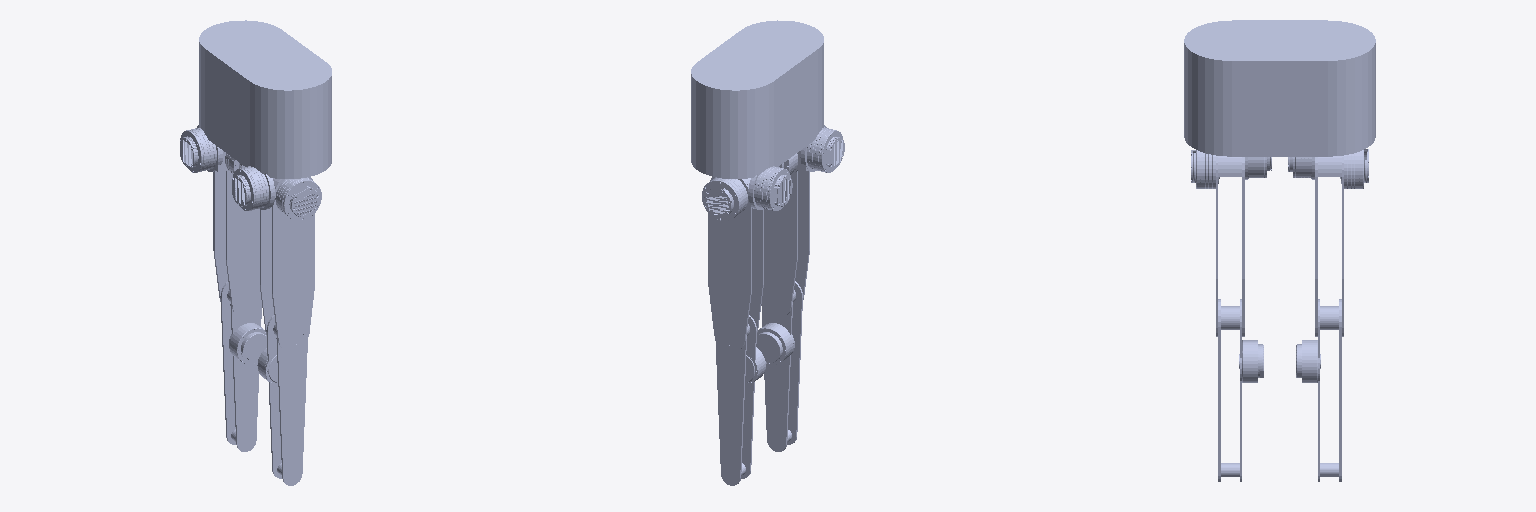
The robot description file, URDF, robot "hr":
<?xml version="1.0" encoding="utf-8"?>
<!-- This URDF was automatically created by SolidWorks to URDF Exporter! Originally created by [author] ([email redacted]) 
     Commit Version: 1.6.0-4-g7f85cfe  Build Version: 1.6.7995.38578
     For more information, please see http://wiki.ros.org/sw_urdf_exporter -->
<robot
  name="hr">
  <link
    name="base">
    <inertial>
      <origin
        xyz="-0.0044317 0.00063769 0.078449"
        rpy="0 0 0" />
      <mass
        value="13" />
      <inertia
        ixx="0.21138"
        ixy="2.665E-05"
        ixz="0.00060204"
        iyy="0.097207"
        iyz="-0.00098535"
        izz="0.20454" />
    </inertial>
    <visual>
      <origin
        xyz="0 0 0"
        rpy="0 0 0" />
      <geometry>
        <mesh
          filename="meshes/base.STL" />
      </geometry>
      <material
        name="">
        <color
          rgba="0.79216 0.81961 0.93333 1" />
      </material>
    </visual>
    <collision>
      <origin
        xyz="0 0 0.125"
        rpy="0 0 0" />
          <geometry>
              <box size="0.2 0.38 0.21"/>
          </geometry>
    </collision>
  </link>
  <link
    name="L_hip">
    <inertial>
      <origin
        xyz="-0.076147 -0.000144 -0.056058"
        rpy="0 0 0" />
      <mass
        value="1.5262" />
      <inertia
        ixx="0.004624"
        ixy="-1.063E-05"
        ixz="-0.0016518"
        iyy="0.0052931"
        iyz="-6.3E-06"
        izz="0.0033533" />
    </inertial>
    <visual>
      <origin
        xyz="0 0 0"
        rpy="0 0 0" />
      <geometry>
        <mesh
          filename="meshes/L_hip.STL" />
      </geometry>
      <material
        name="">
        <color
          rgba="0.79216 0.81961 0.93333 1" />
      </material>
    </visual>
    <!-- <collision>
      <origin
        xyz="0 0 0"
        rpy="0 0 0" />
      <geometry>
        <mesh
          filename="meshes/L_hip.STL" />
      </geometry>
    </collision> -->
  </link>
  <joint
    name="L_hip_joint"
    type="revolute">
    <origin
      xyz="-0.0053471 0.1175 -0.0067"
      rpy="0 0 0" />
    <parent
      link="base" />
    <child
      link="L_hip" />
    <axis
      xyz="0 0 1" />
    <limit
      lower="-1.5"
      upper="1.5"
      effort="300"
      velocity="50" />
  </joint>
  <link
    name="L_hip2">
    <inertial>
      <origin
        xyz="0.065812 -0.057927 -0.015122"
        rpy="0 0 0" />
      <mass
        value="1.33325" />
      <inertia
        ixx="0.00218586"
        ixy="0.00063143"
        ixz="0.00025969"
        iyy="0.00331254"
        iyz="-0.0001735"
        izz="0.00291067" />
    </inertial>
    <visual>
      <origin
        xyz="0 0 0"
        rpy="0 0 0" />
      <geometry>
        <mesh
          filename="meshes/L_hip2.STL" />
      </geometry>
      <material
        name="">
        <color
          rgba="0.79216 0.81961 0.93333 1" />
      </material>
    </visual>
    <!-- <collision>
      <origin
        xyz="0 0 0"
        rpy="0 0 0" />
      <geometry>
        <mesh
          filename="meshes/L_hip2.STL" />
      </geometry>
    </collision> -->
  </link>
  <joint
    name="L_hip2_joint"
    type="revolute">
    <origin
      xyz="-0.0763 0 -0.084"
      rpy="0 0 0" />
    <parent
      link="L_hip" />
    <child
      link="L_hip2" />
    <axis
      xyz="1 0 0" />
    <limit
      lower="-0.5"
      upper="0.65"
      effort="300"
      velocity="50" />
  </joint>
  <link
    name="L_thigh">
    <inertial>
      <origin
        xyz="-2.011E-05 0.019927 -0.086535"
        rpy="0 0 0" />
      <mass
        value="4.91" />
      <inertia
        ixx="0.078865"
        ixy="-3.8E-07"
        ixz="8.53E-06"
        iyy="0.079352"
        iyz="-0.0022097"
        izz="0.0098034" />
    </inertial>
    <visual>
      <origin
        xyz="0 0 0"
        rpy="0 0 0" />
      <geometry>
        <mesh
          filename="meshes/L_thigh.STL" />
      </geometry>
      <material
        name="">
        <color
          rgba="0.79216 0.81961 0.93333 1" />
      </material>
    </visual>
    <!-- <collision>
      <origin
        xyz="0 0 0"
        rpy="0 0 0" />
      <geometry>
        <mesh
          filename="meshes/L_thigh.STL" />
      </geometry>
    </collision> -->
  </link>
  <joint
    name="L_thigh_joint"
    type="revolute">
    <origin
      xyz="0.078 -0.014084 -0.0185"
      rpy="0 0 0" />
    <parent
      link="L_hip2" />
    <child
      link="L_thigh" />
    <axis
      xyz="0 1 0" />
    <limit
      lower="-2.05"
      upper="0"
      effort="300"
      velocity="50" />
  </joint>
  <link
    name="L_calf">
    <inertial>
      <origin
        xyz="7.1556E-05 0.01631 -0.076065"
        rpy="0 0 0" />
      <mass
        value="1.5" />
      <inertia
        ixx="0.014852"
        ixy="-9E-08"
        ixz="-5.83E-06"
        iyy="0.01532"
        iyz="-5.33E-06"
        izz="0.001003" />
    </inertial>
    <visual>
      <origin
        xyz="0 0 0"
        rpy="0 0 0" />
      <geometry>
        <mesh
          filename="meshes/L_calf.STL" />
      </geometry>
      <material
        name="">
        <color
          rgba="0.79216 0.81961 0.93333 1" />
      </material>
    </visual>
    <!-- <collision>
      <origin
        xyz="0 0 0"
        rpy="0 0 0" />
      <geometry>
        <mesh
          filename="meshes/L_calf.STL" />
      </geometry>
    </collision> -->
  </link>
  <joint
    name="L_calf_joint"
    type="revolute">
    <origin
      xyz="0 0 -0.35"
      rpy="0 0 0" />
    <parent
      link="L_thigh" />
    <child
      link="L_calf" />
    <axis
      xyz="0 1 0" />
    <limit
      lower="0"
      upper="2.1"
      effort="300"
      velocity="50" />
  </joint>
  <link
    name="L_toe">
    <inertial>
      <origin
        xyz="0.01468 0.015514 -0.035597"
        rpy="0 0 0" />
      <mass
        value="0.52014" />
      <inertia
        ixx="0.00014231"
        ixy="5.2E-07"
        ixz="2.557E-05"
        iyy="0.0016205"
        iyz="-5E-08"
        izz="0.0016853" />
    </inertial>
    <visual>
      <origin
        xyz="0 0 0"
        rpy="0 0 0" />
      <geometry>
        <mesh
          filename="meshes/L_toe.STL" />
      </geometry>
      <material
        name="">
        <color
          rgba="0.79216 0.81961 0.93333 1" />
      </material>
    </visual>
    <collision>
      <origin
        xyz="0 0 0"
        rpy="0 0 0" />
      <geometry>
        <mesh
          filename="meshes/L_toe.STL" />
      </geometry>
    </collision>
  </link>
  <joint
    name="L_toe_joint"
    type="revolute">
    <origin
      xyz="0 0 -0.35"
      rpy="0 0 0" />
    <parent
      link="L_calf" />
    <child
      link="L_toe" />
    <axis
      xyz="0 1 0" />
    <limit
      lower="-0.8"
      upper="0.8"
      effort="100"
      velocity="50" />
  </joint>
  <link name="L_end_effector">
    <visual>
      <origin xyz="0 0 0" rpy="0 0 0" />
      <geometry>
        <sphere radius="0.0001" />
      </geometry>
      <material name=""> 
        <color rgba="0 0 0 0" />
      </material>
    </visual>
  </link>
  <joint name="L_end_joint"
    type="fixed">
    <origin
      xyz="0 0 -0.049"
      rpy="0 0 0" />
    <parent
      link="L_toe" />
    <child
      link="L_end_effector" />
    <axis
      xyz="0 0 0" />
    <limit
      lower="0"
      upper="0"
      effort="0"
      velocity="0" />
  </joint>
  <link
    name="R_hip">
    <inertial>
      <origin
        xyz="-0.076147 -0.000144 -0.056058"
        rpy="0 0 0" />
      <mass
        value="1.5262" />
      <inertia
        ixx="0.004624"
        ixy="-1.063E-05"
        ixz="-0.0016518"
        iyy="0.0052931"
        iyz="-6.3E-06"
        izz="0.0033533" />
    </inertial>
    <visual>
      <origin
        xyz="0 0 0"
        rpy="0 0 0" />
      <geometry>
        <mesh
          filename="meshes/R_hip.STL" />
      </geometry>
      <material
        name="">
        <color
          rgba="0.79216 0.81961 0.93333 1" />
      </material>
    </visual>
    <!-- <collision>
      <origin
        xyz="0 0 0"
        rpy="0 0 0" />
      <geometry>
        <mesh
          filename="meshes/R_hip.STL" />
      </geometry>
    </collision> -->
  </link>
  <joint
    name="R_hip_joint"
    type="revolute">
    <origin
      xyz="-0.0053471 -0.1175 -0.0067"
      rpy="0 0 0" />
    <parent
      link="base" />
    <child
      link="R_hip" />
    <axis
      xyz="0 0 1" />
    <limit
      lower="-1.5"
      upper="1.5"
      effort="300"
      velocity="50" />
  </joint>
  <link
    name="R_hip2">
    <inertial>
      <origin
        xyz="0.065812 0.057927 -0.015122"
        rpy="0 0 0" />
      <mass
        value="1.33325" />
      <inertia
        ixx="0.00218586"
        ixy="-0.0006314"
        ixz="0.00026006"
        iyy="0.00331252"
        iyz="0.0001735"
        izz="0.00291066" />
    </inertial>
    <visual>
      <origin
        xyz="0 0 0"
        rpy="0 0 0" />
      <geometry>
        <mesh
          filename="meshes/R_hip2.STL" />
      </geometry>
      <material
        name="">
        <color
          rgba="0.79216 0.81961 0.93333 1" />
      </material>
    </visual>
    <!-- <collision>
      <origin
        xyz="0 0 0"
        rpy="0 0 0" />
      <geometry>
        <mesh
          filename="meshes/R_hip2.STL" />
      </geometry>
    </collision> -->
  </link>
  <joint
    name="R_hip2_joint"
    type="revolute">
    <origin
      xyz="-0.0763 0 -0.084"
      rpy="0 0 0" />
    <parent
      link="R_hip" />
    <child
      link="R_hip2" />
    <axis
      xyz="1 0 0" />
    <limit
      lower="-0.65"
      upper="0.5"
      effort="300"
      velocity="50" />
  </joint>
  <link
    name="R_thigh">
    <inertial>
      <origin
        xyz="2.011E-05 -0.019927 -0.086535"
        rpy="0 0 0" />
      <mass
        value="4.91" />
      <inertia
        ixx="0.07886454"
        ixy="-3.8E-07"
        ixz="-8.53E-06"
        iyy="0.07935199"
        iyz="0.00220965"
        izz="0.00980338" />
    </inertial>
    <visual>
      <origin
        xyz="0 0 0"
        rpy="0 0 0" />
      <geometry>
        <mesh
          filename="meshes/R_thigh.STL" />
      </geometry>
      <material
        name="">
        <color
          rgba="0.79216 0.81961 0.93333 1" />
      </material>
    </visual>
    <!-- <collision>
      <origin
        xyz="0 0 0"
        rpy="0 0 0" />
      <geometry>
        <mesh
          filename="meshes/R_thigh.STL" />
      </geometry>
    </collision> -->
  </link>
  <joint
    name="R_thigh_joint"
    type="revolute">
    <origin
      xyz="0.078 0.014084 -0.0185"
      rpy="0 0 0" />
    <parent
      link="R_hip2" />
    <child
      link="R_thigh" />
    <axis
      xyz="0 1 0" />
    <limit
      lower="-2.05"
      upper="0"
      effort="300"
      velocity="50" />
  </joint>
  <link
    name="R_calf">
    <inertial>
      <origin
        xyz="-7.1556E-05 -0.01631 -0.076065"
        rpy="0 0 0" />
      <mass
        value="1.5" />
      <inertia
        ixx="0.014852"
        ixy="-9E-08"
        ixz="5.83E-06"
        iyy="0.01532"
        iyz="5.33E-06"
        izz="0.001003" />
    </inertial>
    <visual>
      <origin
        xyz="0 0 0"
        rpy="0 0 0" />
      <geometry>
        <mesh
          filename="meshes/R_calf.STL" />
      </geometry>
      <material
        name="">
        <color
          rgba="0.79216 0.81961 0.93333 1" />
      </material>
    </visual>
    <!-- <collision>
      <origin
        xyz="0 0 0"
        rpy="0 0 0" />
      <geometry>
        <mesh
          filename="meshes/R_calf.STL" />
      </geometry>
    </collision> -->
  </link>
  <joint
    name="R_calf_joint"
    type="revolute">
    <origin
      xyz="0 0 -0.35"
      rpy="0 0 0" />
    <parent
      link="R_thigh" />
    <child
      link="R_calf" />
    <axis
      xyz="0 1 0" />
    <limit
      lower="0"
      upper="2.1"
      effort="300"
      velocity="50" />
  </joint>
  <link
    name="R_toe">
    <inertial>
      <origin
        xyz="0.01468 -0.015514 -0.035597"
        rpy="0 0 0" />
      <mass
        value="0.52014" />
      <inertia
        ixx="0.00014231"
        ixy="5.2E-07"
        ixz="2.557E-05"
        iyy="0.0016205"
        iyz="-5E-08"
        izz="0.0016853" />
    </inertial>
    <visual>
      <origin
        xyz="0 0 0"
        rpy="0 0 0" />
      <geometry>
        <mesh
          filename="meshes/R_toe.STL" />
      </geometry>
      <material
        name="">
        <color
          rgba="0.79216 0.81961 0.93333 1" />
      </material>
    </visual>
    <collision>
      <origin
        xyz="0 0 0"
        rpy="0 0 0" />
      <geometry>
        <mesh
          filename="meshes/R_toe.STL" />
      </geometry>
    </collision>
  </link>
  <joint
    name="R_toe_joint"
    type="revolute">
    <origin
      xyz="0 0 -0.35"
      rpy="0 0 0" />
    <parent
      link="R_calf" />
    <child
      link="R_toe" />
    <axis
      xyz="0 1 0" />
    <limit
      lower="-0.8"
      upper="0.8"
      effort="100"
      velocity="50" />
  </joint>
  <link name="R_end_effector">
    <visual>
      <origin xyz="0 0 0" rpy="0 0 0" />
      <geometry>
        <sphere radius="0.0001" />
      </geometry>
      <material name=""> 
        <color rgba="0 0 0 0" />
      </material>
    </visual>
  </link>
  <joint name="R_end_joint"
    type="fixed">
    <origin
      xyz="0 0 -0.049"
      rpy="0 0 0" />
    <parent
      link="R_toe" />
    <child
      link="R_end_effector" />
    <axis
      xyz="0 0 0" />
    <limit
      lower="0"
      upper="0"
      effort="0"
      velocity="0" />
  </joint>
</robot>

--- What the picture shows (computed from the rendered views, not written in the file) ---
3 views of the same robot in one strip: view 1: azimuth 30°, elevation 25°; view 2: azimuth 150°, elevation 25°; view 3: azimuth 270°, elevation 25° (orthographic).
Model hr with 13 links and 12 joints (10 revolute, 2 fixed), rooted at base, posed every joint at zero.
Links seen in each view (by area): view 1: base, R_thigh, L_thigh, R_calf, L_calf, R_hip, L_hip; view 2: base, L_thigh, L_calf, R_thigh, R_calf, L_hip, R_hip; view 3: base, L_thigh, R_thigh, L_calf, R_calf, L_hip2, R_hip2.
Link boxes in pixels (x1,y1,x2,y2): base: (199, 20, 331, 178); R_thigh: (260, 177, 321, 351); L_thigh: (213, 170, 261, 317); R_calf: (257, 315, 307, 485); L_calf: (220, 281, 266, 451); R_hip: (232, 166, 274, 210); L_hip: (180, 125, 222, 172); base: (691, 20, 823, 178); L_thigh: (702, 177, 763, 351); L_calf: (715, 315, 765, 485); R_thigh: (761, 170, 809, 317); R_calf: (756, 281, 802, 451); L_hip: (748, 166, 792, 210); R_hip: (800, 125, 844, 172); base: (1184, 20, 1375, 156); L_thigh: (1311, 149, 1368, 336); R_thigh: (1191, 150, 1248, 336); L_calf: (1296, 299, 1341, 481); R_calf: (1218, 299, 1263, 481); L_hip2: (1288, 157, 1314, 179); R_hip2: (1245, 157, 1271, 179).
Size in the robot's own frame: 0.2383 by 0.4 by 1.04 metres.
9 mesh visuals loaded from 11 distinct referenced files (9 binary STL); not drawn: 2 (reference not matched to a file when rendering).
